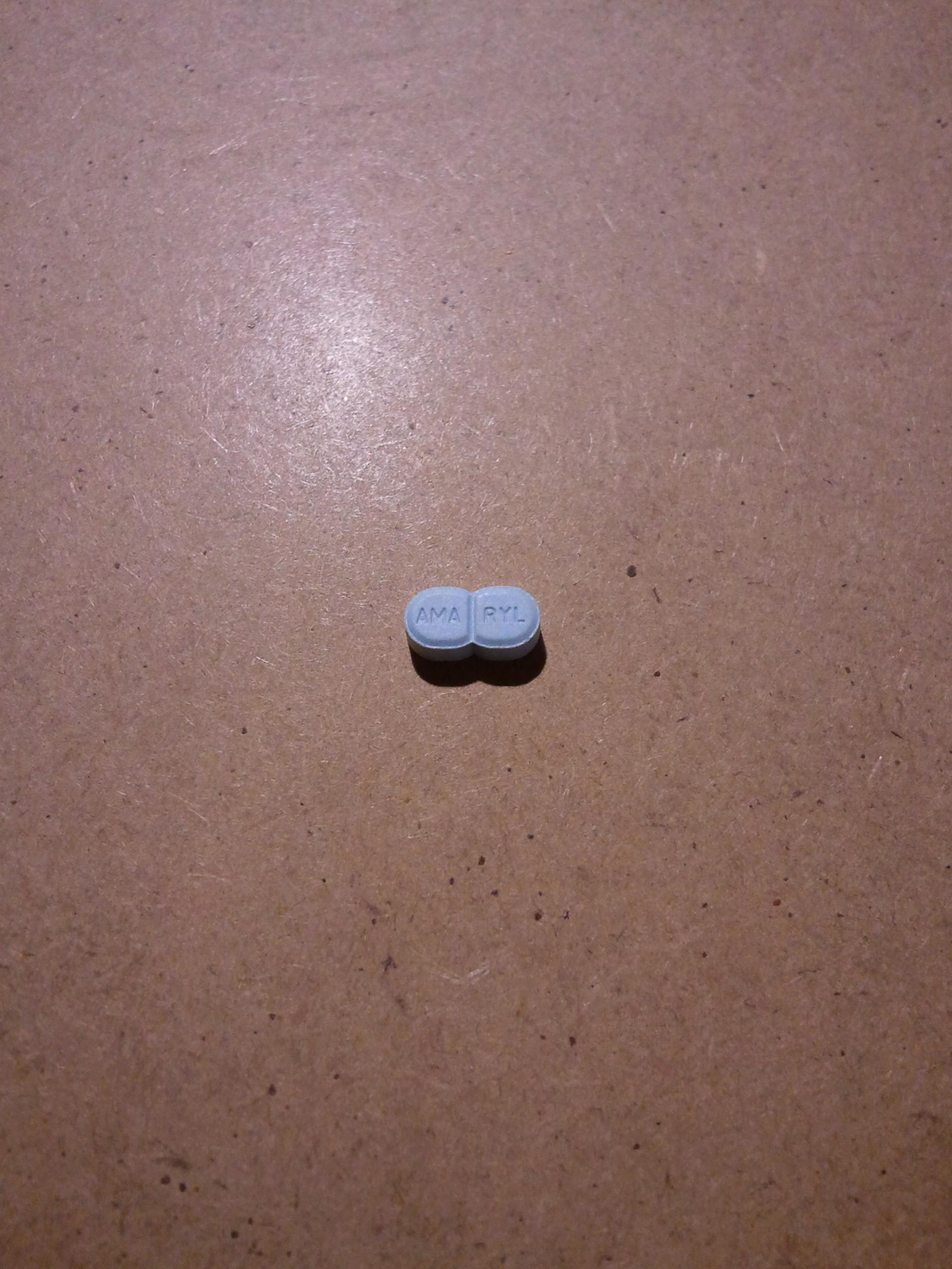Pill: (382, 565, 563, 681)
